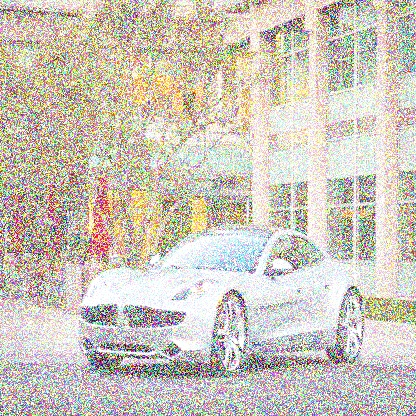Vehicle: (80, 225, 366, 380)
